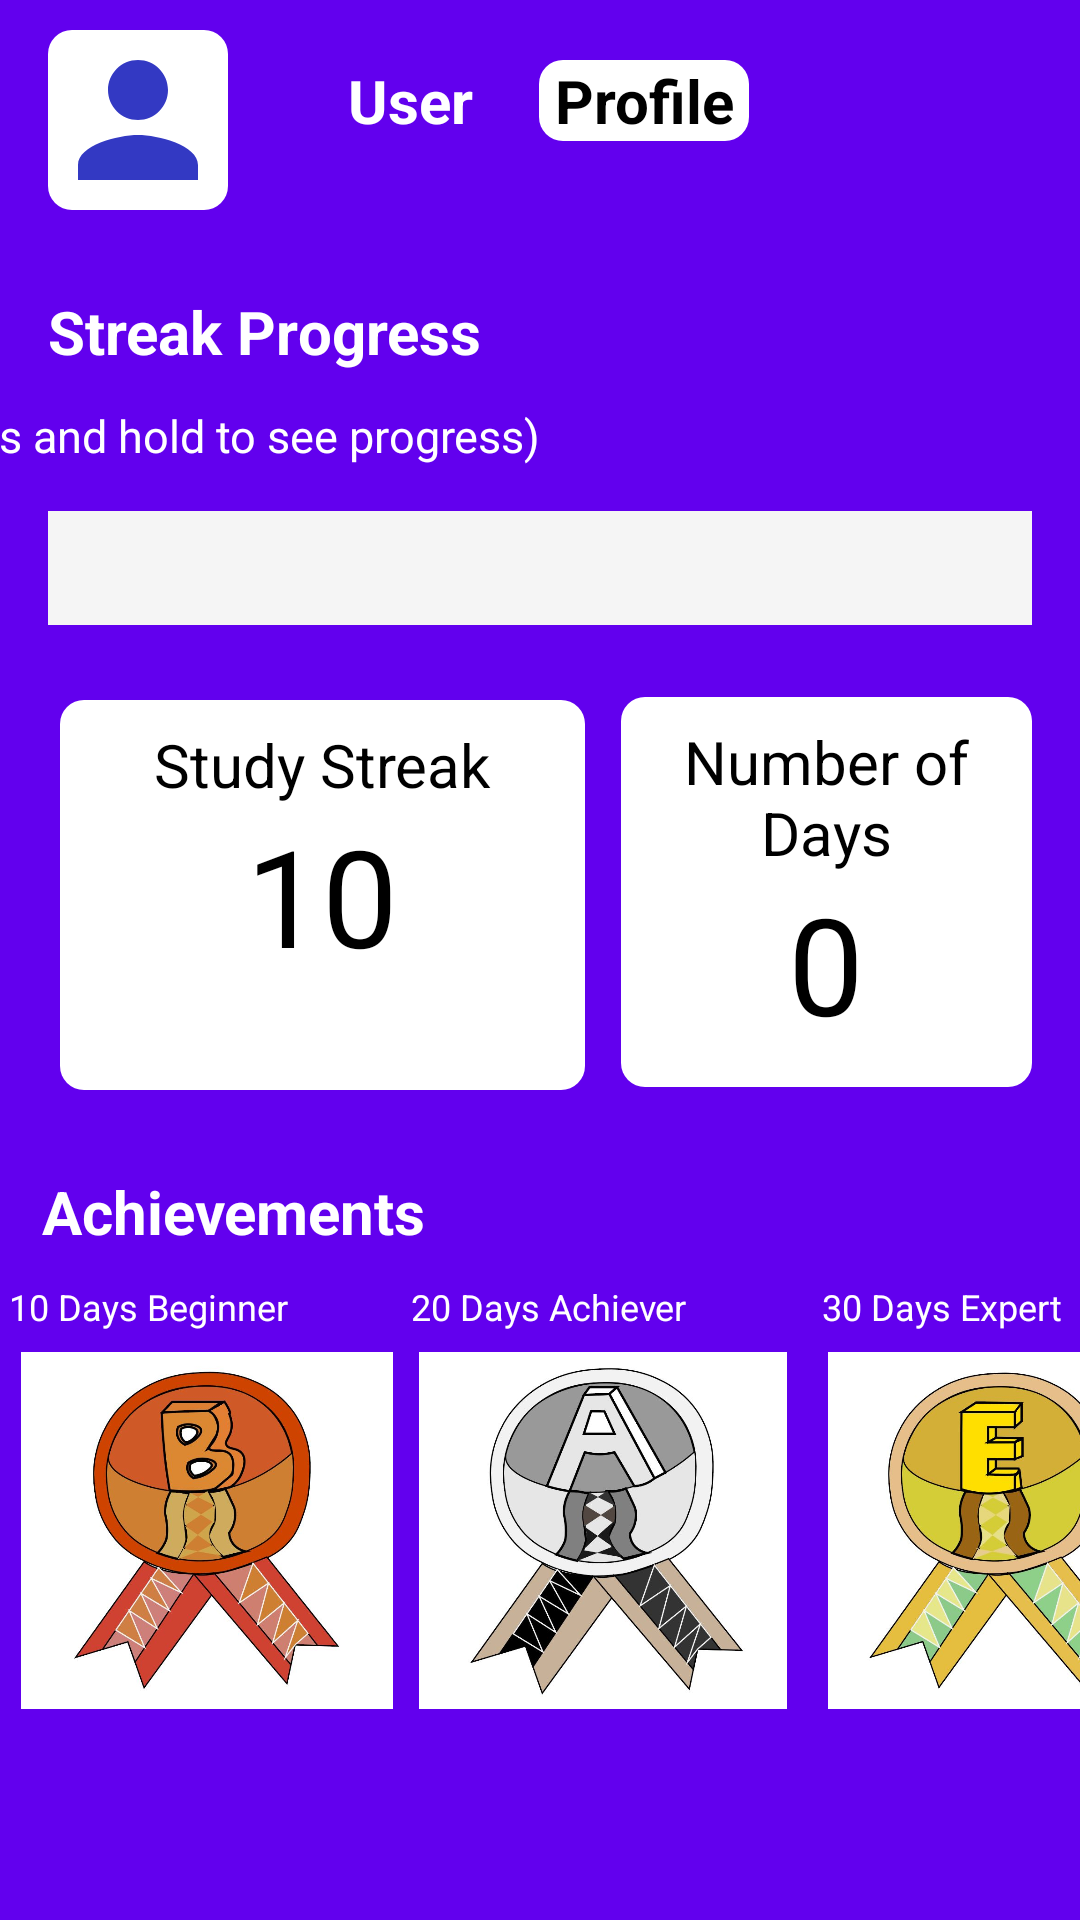

Where icons sit on this 1080 x 1920 app screen, as (x1, y1, x2, y2):
profile: (48, 30, 228, 210)
